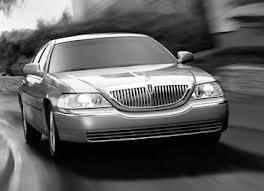car: (14, 29, 235, 168)
